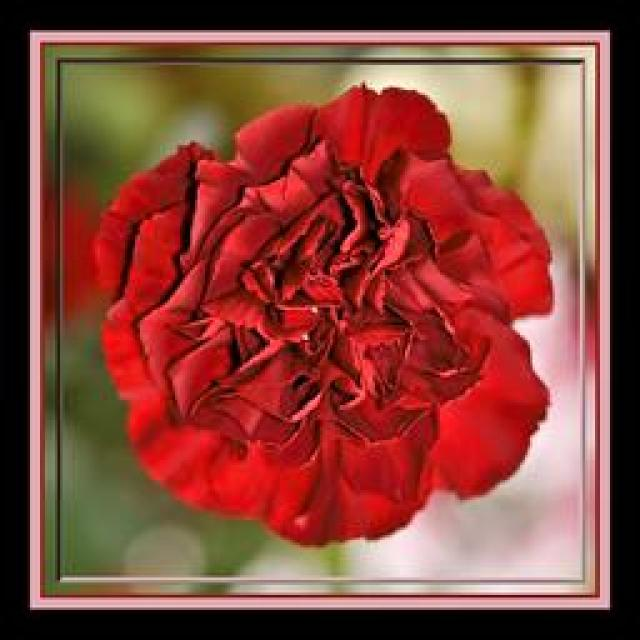carnation: (81, 81, 561, 542)
